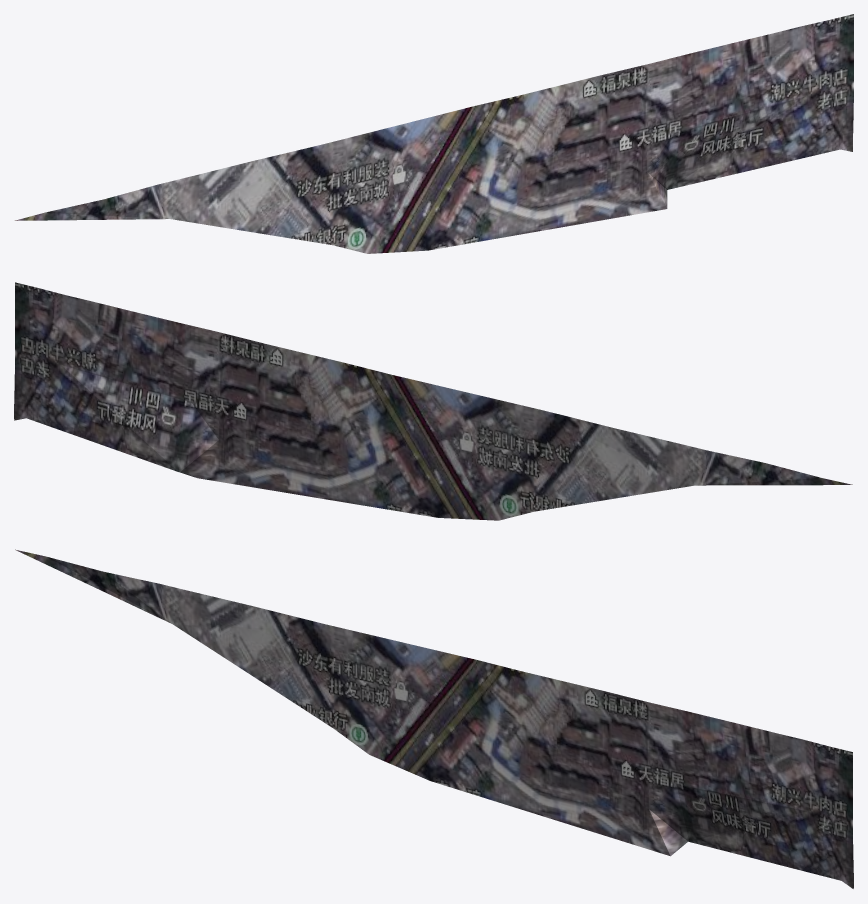
3 views of the same model, one above another, from view 1: azimuth 30°, elevation 25°; view 2: azimuth 150°, elevation 25°; view 3: azimuth 330°, elevation 25° (orthographic).
Parts seen in each view (by area): view 1: 0_1_3_0_1; view 2: 0_1_3_0_1; view 3: 0_1_3_0_1.
Boxes of the visible parts, <box> form: 0_1_3_0_1: <box>14,14,853,253</box>; 0_1_3_0_1: <box>14,282,852,520</box>; 0_1_3_0_1: <box>15,549,853,888</box>.
Bounding box in the file's own units: 718 × 123 × 19.01.
Materials: 1 (1 with a texture image).
